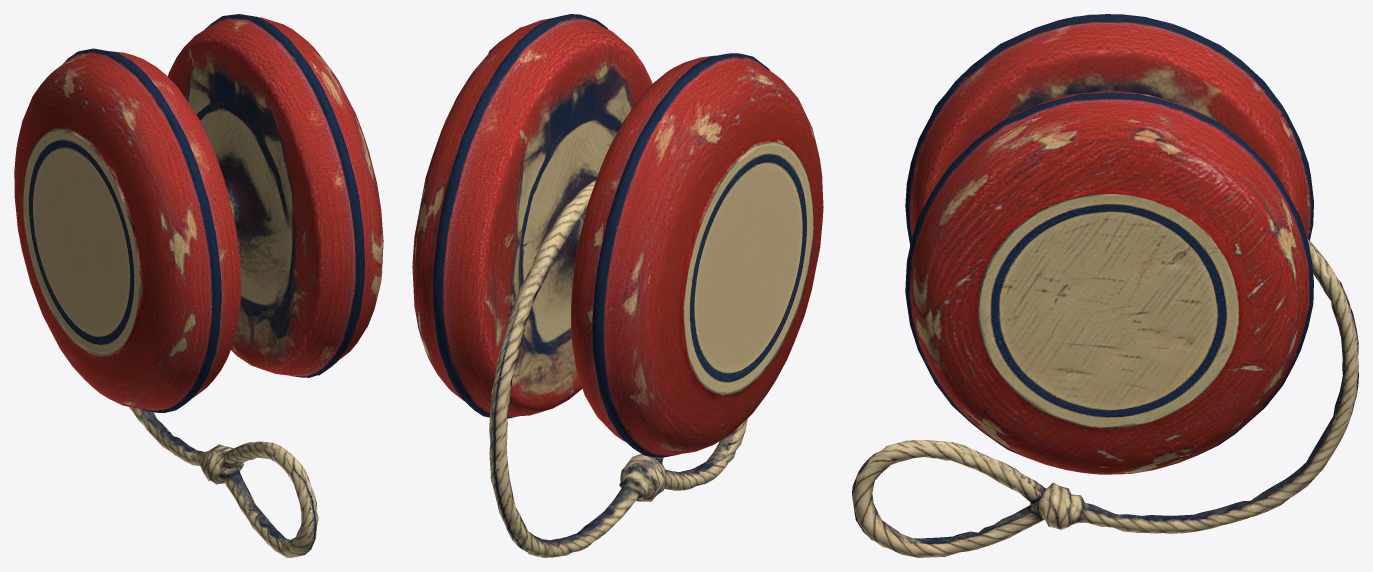
File: YoYo.fbx
The picture shows the model from 3 angles, left to right: view 1: azimuth 30°, elevation 25°; view 2: azimuth 150°, elevation 25°; view 3: azimuth 270°, elevation 25°; orthographic projection. The views are drawn at different scales.
Parts seen in each view (by area): view 1: tripo_node_3bdb8606-896f-4ce0-b666-bfcd3c807df9; view 2: tripo_node_3bdb8606-896f-4ce0-b666-bfcd3c807df9; view 3: tripo_node_3bdb8606-896f-4ce0-b666-bfcd3c807df9.
Part boxes in pixels (x1=…): tripo_node_3bdb8606-896f-4ce0-b666-bfcd3c807df9: x1=14, y1=14, x2=383, y2=557; tripo_node_3bdb8606-896f-4ce0-b666-bfcd3c807df9: x1=412, y1=14, x2=823, y2=557; tripo_node_3bdb8606-896f-4ce0-b666-bfcd3c807df9: x1=852, y1=14, x2=1358, y2=557.
Bounding box in the file's own units: 54.93 × 100 × 91.09.
1 material, 1 textured.
